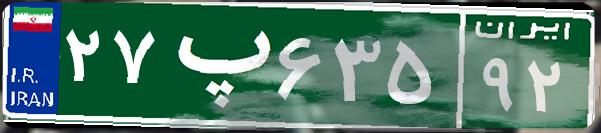2: (57, 26, 110, 107), (525, 38, 570, 115)
3: (330, 28, 385, 110)
5: (385, 28, 445, 110)
6: (273, 28, 330, 110)
7: (110, 28, 158, 105)
9: (475, 38, 525, 113)
پ: (158, 15, 273, 115)
